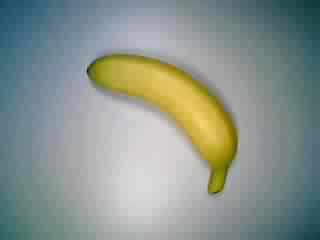banana: (80, 50, 242, 198)
